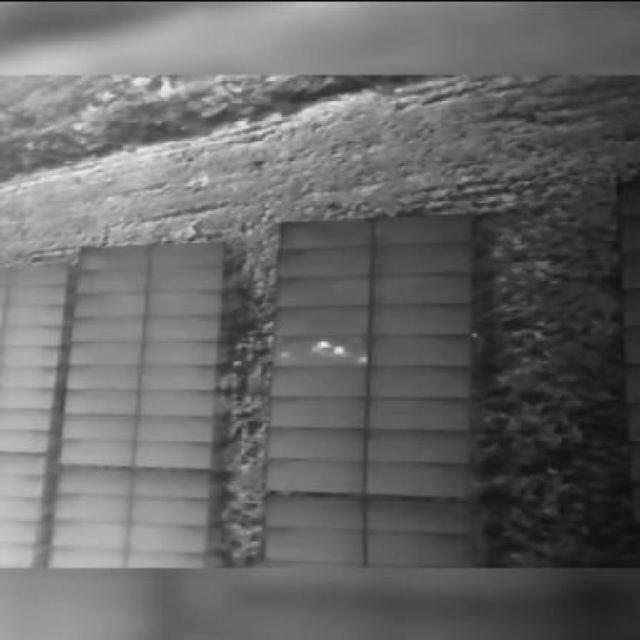hotspot: (349, 353, 368, 362), (314, 336, 329, 346), (332, 345, 348, 353)
